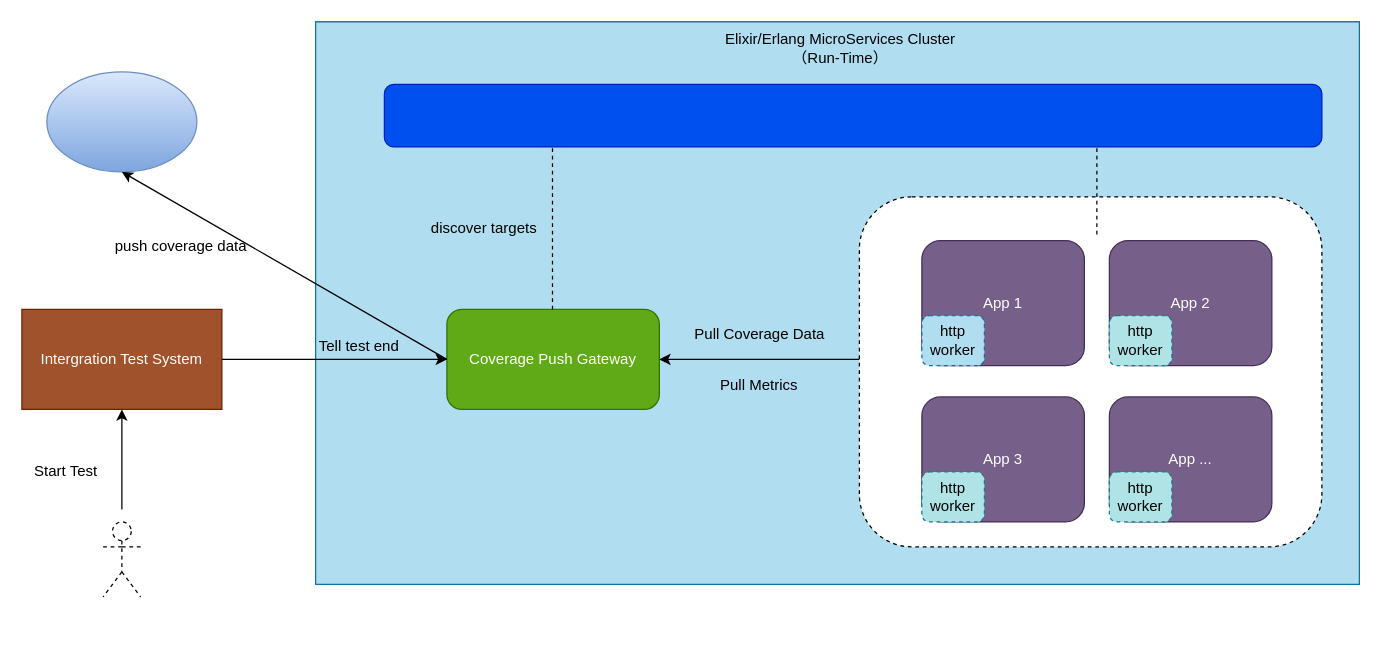
Some shapes in this 1381 by 645 pixel diagram are drawn without their labels. The centre of each missing label's shape, as x and y in pixels:
"Cover Center （DashBoard）" goes at (x=121, y=121).
"Service Discovery" goes at (x=852, y=115).
"SWE/SET" goes at (x=121, y=559).
